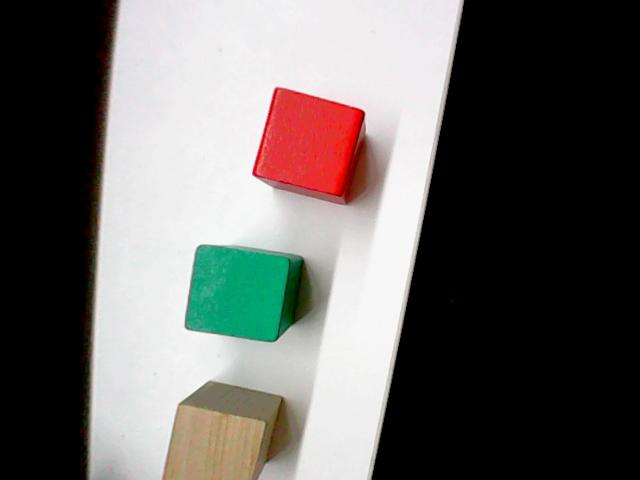green_box: (180, 241, 305, 344)
raw_box: (154, 370, 286, 480)
red_box: (247, 83, 369, 207)
